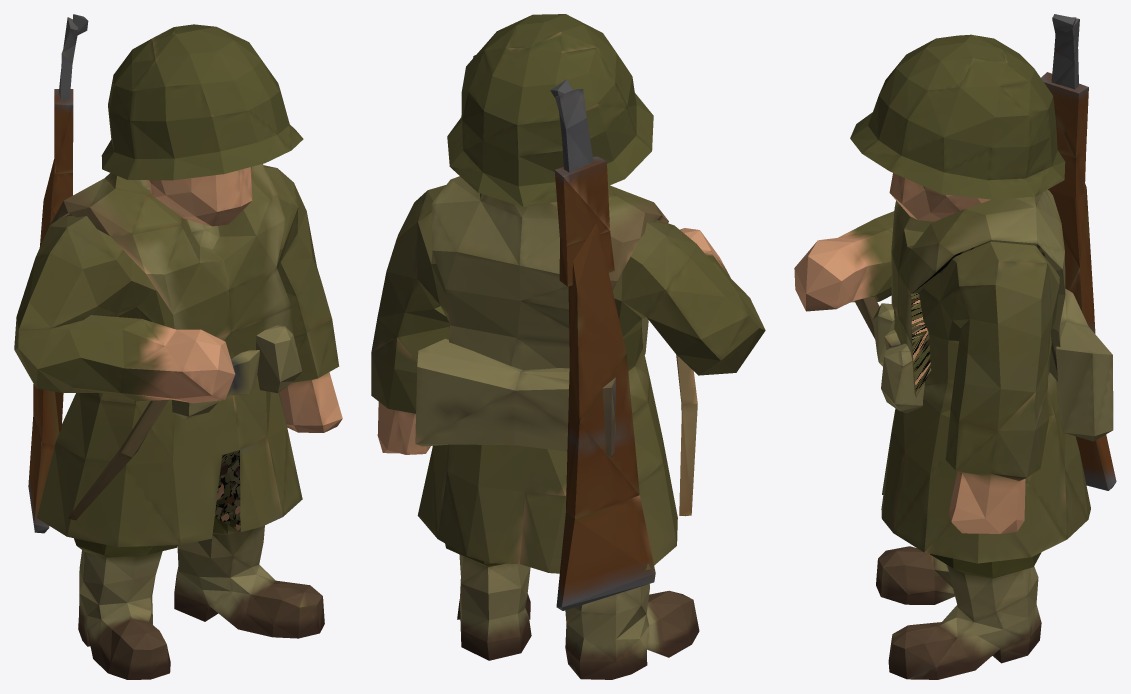
File: bulge_us_inf_2.glb
3 views of the same model, side by side, from view 1: azimuth 30°, elevation 25°; view 2: azimuth 150°, elevation 25°; view 3: azimuth 270°, elevation 25° (orthographic). The views are drawn at different scales.
Visible parts, largest first — view 1: geometry_0; view 2: geometry_0; view 3: geometry_0.
Part boxes in pixels (box(x1,y1,x2,y2)): geometry_0: box(14, 14, 342, 679); geometry_0: box(371, 14, 765, 679); geometry_0: box(794, 14, 1116, 679).
Bounding box in the file's own units: 0.1885 × 0.324 × 0.16.
Materials: 1 (1 with a texture image).
